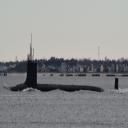submarine: (10, 35, 119, 96)
